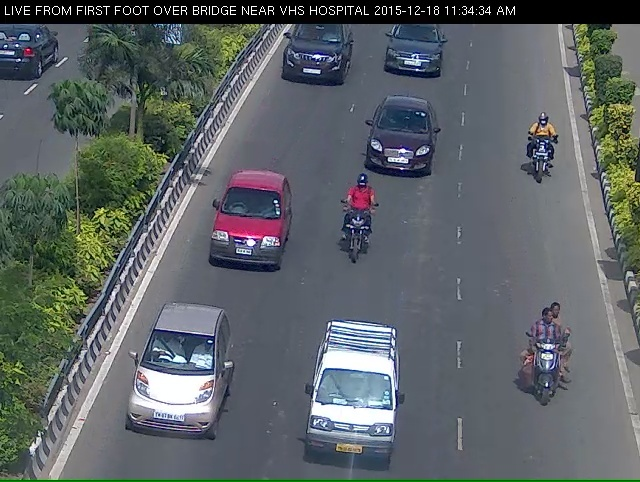Car: (108, 344, 225, 473), (306, 355, 398, 482), (217, 191, 295, 305), (354, 105, 438, 207), (274, 25, 353, 106), (380, 23, 449, 95)
Person: (521, 308, 573, 442), (331, 190, 386, 301), (519, 127, 554, 201)
